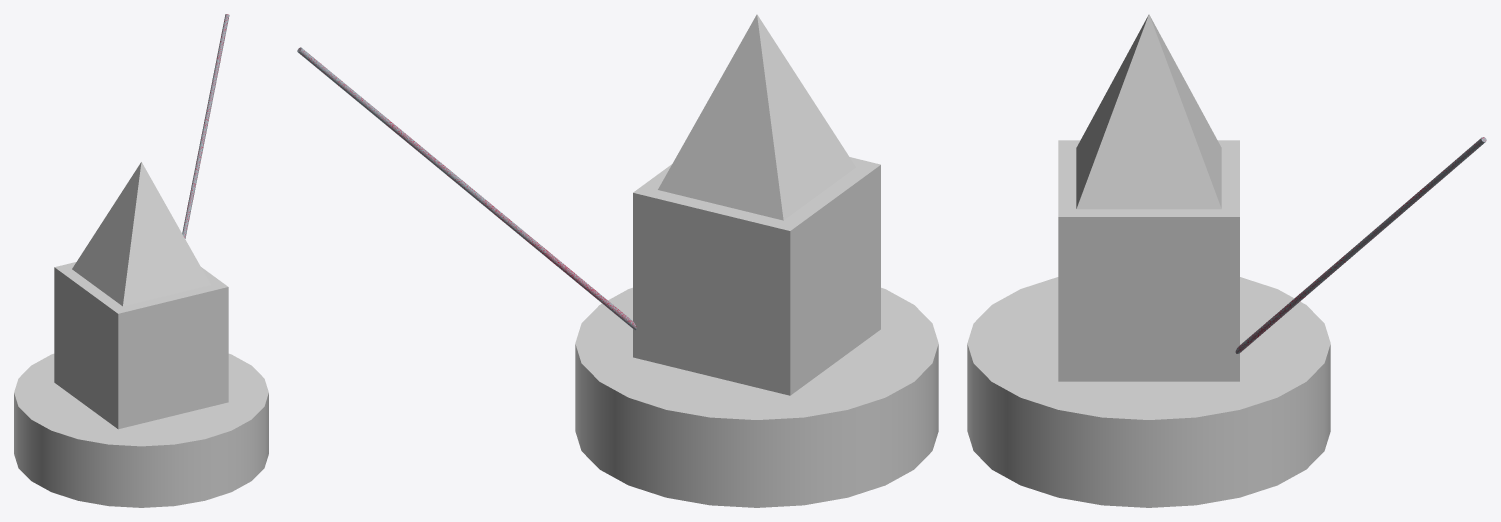
The model's file is 24iso.fbx.
3 views of the same model, side by side, from view 1: azimuth 30°, elevation 25°; view 2: azimuth 150°, elevation 25°; view 3: azimuth 270°, elevation 25° (orthographic). The views are drawn at different scales.
Parts seen in each view (by area): view 1: Model; view 2: Model; view 3: Model.
Part boxes in pixels (x1=…): Model: x1=14, y1=14, x2=268, y2=507; Model: x1=297, y1=14, x2=938, y2=507; Model: x1=967, y1=14, x2=1486, y2=507.
Bounding box in the file's own units: 8.57 × 7.93 × 8.57.
